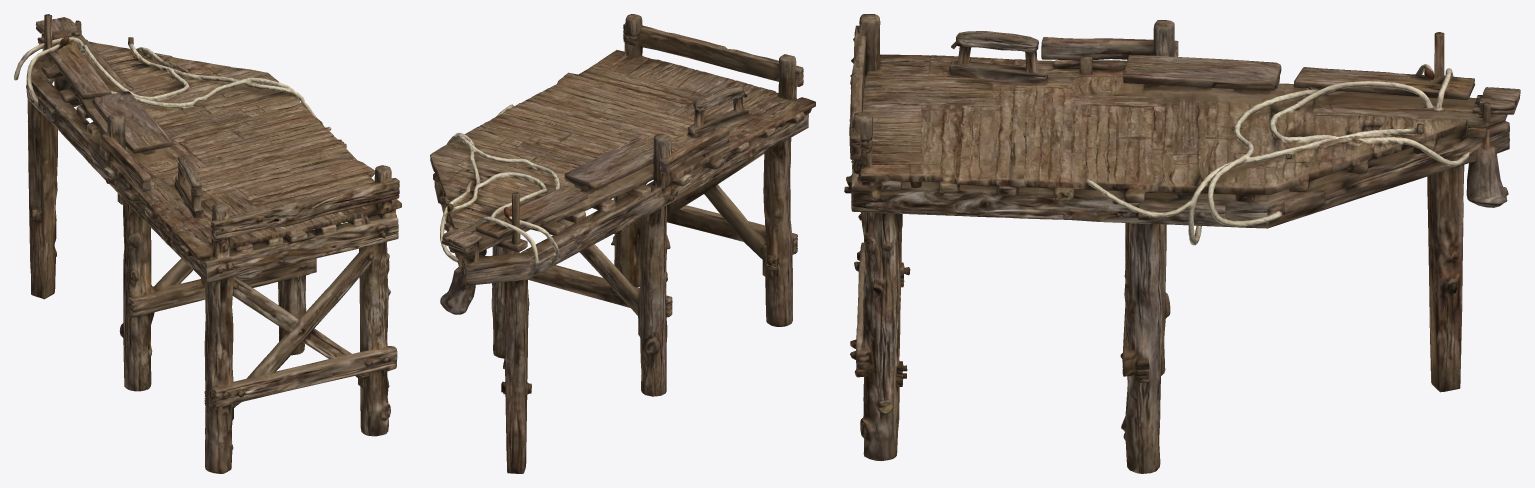
The model's file is timber-pier.glb.
3 renders of one model, left to right at view 1: azimuth 30°, elevation 25°; view 2: azimuth 150°, elevation 25°; view 3: azimuth 270°, elevation 25°, orthographic. The views are drawn at different scales.
Parts seen in each view (by area): view 1: tripo_node_22663d09-4674-4667-bc34-17565716a074; view 2: tripo_node_22663d09-4674-4667-bc34-17565716a074; view 3: tripo_node_22663d09-4674-4667-bc34-17565716a074.
Boxes of the visible parts, bbox=[...] form: tripo_node_22663d09-4674-4667-bc34-17565716a074: bbox=[14, 14, 401, 473]; tripo_node_22663d09-4674-4667-bc34-17565716a074: bbox=[430, 14, 815, 473]; tripo_node_22663d09-4674-4667-bc34-17565716a074: bbox=[844, 14, 1520, 473].
Bounding box in the file's own units: 0.5118 × 0.5683 × 0.9805.
Materials: 1 (1 with a texture image).
